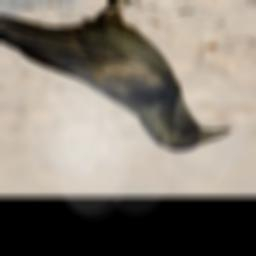Crow: (0, 0, 234, 152)
